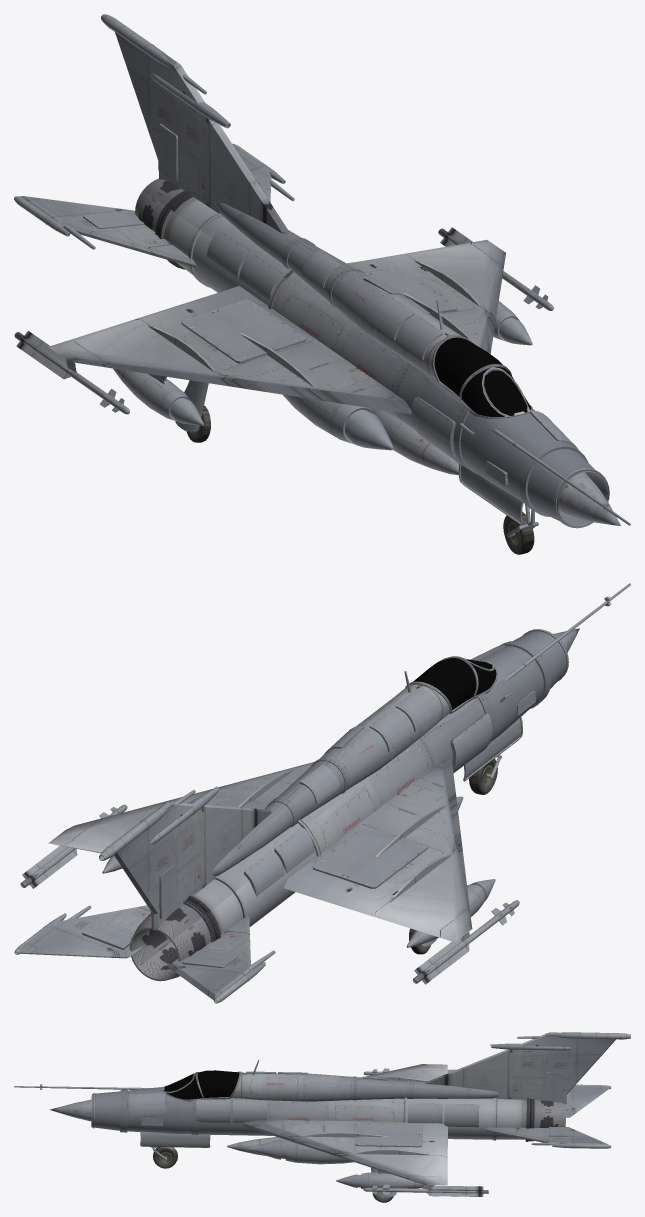
The picture shows the model from 3 angles, top to bottom: view 1: azimuth 30°, elevation 25°; view 2: azimuth 150°, elevation 25°; view 3: azimuth 270°, elevation 25°; orthographic projection. The views are drawn at different scales.
Parts seen in each view (by area): view 1: Cylinder.006_43, Plane.001_7, Cylinder.007_42, Plane.002_6, Plane.003_5, Cylinder.023_27, Plane.004_53, Cube.001_50, jonathan-coble-jonathancobleforwardlandinggear-06_10, Cube.003_48, Cube.005_46, Cube.006_45 (+15 smaller); view 2: Cylinder.006_43, Plane.001_7, Cylinder.007_42, Plane.002_6, Cylinder.023_27, Plane.003_5, Plane.005_4, Plane.004_53, jonathan-coble-jonathancobleforwardlandinggear-06_10, Cube.006_45, Cylinder.026_24, Cube_51 (+12 smaller); view 3: Cylinder.006_43, Cylinder.007_42, Plane.002_6, Plane.003_5, Cylinder.021_28, jonathan-coble-jonathancobleforwardlandinggear-06_10, Cube.004_47, Plane.005_4, Cube_51, Cube.002_49, Cylinder.010_39, Cylinder.011_38 (+15 smaller).
Boxes of the visible parts, x1,y1,x2,y2 form: Cylinder.006_43: (135, 178, 609, 528); Plane.001_7: (48, 286, 411, 414); Cylinder.007_42: (217, 202, 532, 418); Plane.002_6: (115, 32, 288, 233); Plane.003_5: (347, 240, 505, 353); Cylinder.023_27: (181, 299, 306, 363); Plane.004_53: (19, 196, 196, 267); Cube.001_50: (283, 394, 393, 450); jonathan-coble-jonathancobleforwardlandinggear-06_10: (458, 464, 538, 554); Cube.003_48: (113, 368, 203, 425); Cube.005_46: (370, 408, 458, 475); Cube.006_45: (14, 330, 129, 414); Cylinder.006_43: (129, 629, 568, 981); Plane.001_7: (283, 759, 472, 942); Cylinder.007_42: (212, 656, 497, 876); Plane.002_6: (114, 802, 271, 930); Cylinder.023_27: (312, 825, 427, 888); Plane.003_5: (48, 762, 314, 855); Plane.005_4: (14, 905, 150, 958); Plane.004_53: (168, 916, 250, 1001); jonathan-coble-jonathancobleforwardlandinggear-06_10: (463, 717, 522, 794); Cube.006_45: (413, 900, 519, 984); Cylinder.026_24: (450, 713, 492, 772); Cube_51: (20, 804, 127, 888); Cylinder.006_43: (91, 1087, 565, 1141); Cylinder.007_42: (162, 1070, 499, 1101); Plane.002_6: (425, 1032, 615, 1104); Plane.003_5: (243, 1119, 447, 1185); Cylinder.021_28: (355, 1122, 422, 1147); jonathan-coble-jonathancobleforwardlandinggear-06_10: (140, 1131, 210, 1168); Cube.004_47: (249, 1139, 354, 1164); Plane.005_4: (483, 1127, 611, 1146); Cube_51: (363, 1184, 488, 1196); Cube.002_49: (336, 1170, 434, 1189); Cylinder.010_39: (129, 1092, 166, 1118); Cylinder.011_38: (196, 1099, 230, 1122).
Size of the model in its own units: 3.79 by 1.98 by 8.19.
15 materials, 13 textured.
